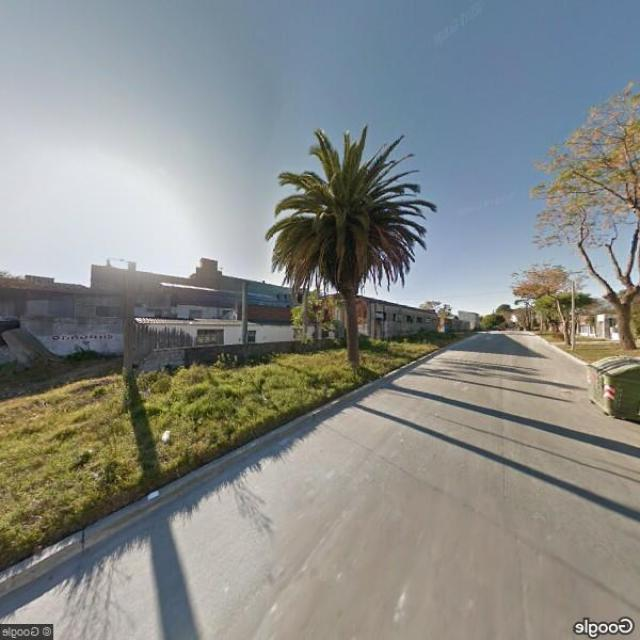garbage container: (577, 348, 639, 427)
